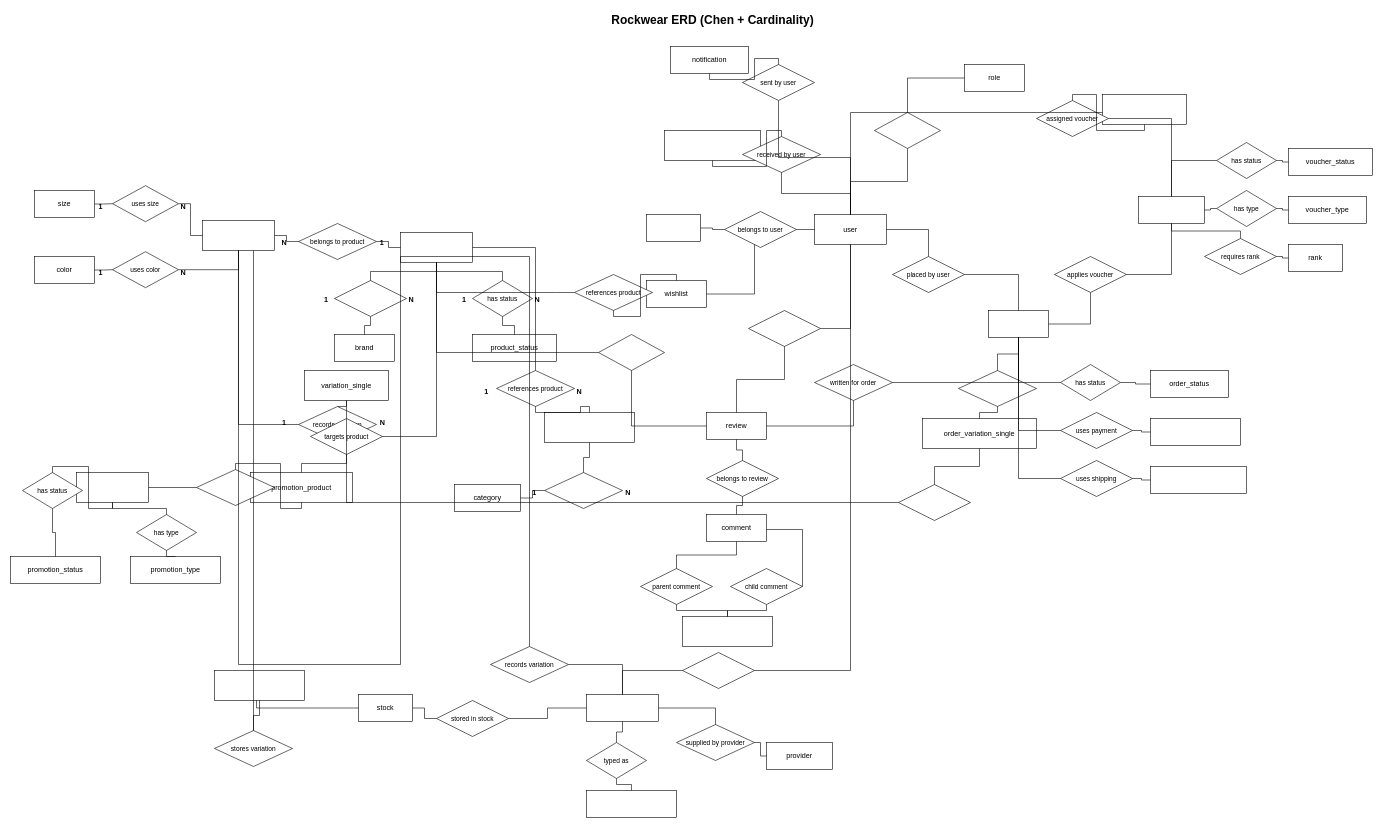
This 1383x828 diagram has some shape labels left out. Here are the shapes that lost their labels. From the top down, the centre of each, then its label:
At pixel 1144 109: "user_voucher".
At pixel 712 145: "notification_user".
At pixel 907 130: "assigned role".
At pixel 673 228: "cart".
At pixel 1171 210: "voucher".
At pixel 238 235: "variation".
At pixel 436 247: "product".
At pixel 370 298: "belongs to brand".
At pixel 784 328: "written by user".
At pixel 1018 324: "order".
At pixel 631 352: "rates product".
At pixel 997 388: "belongs to order".
At pixel 589 427: "product_category".
At pixel 1195 432: "payment_method".
At pixel 112 487: "promotion".
At pixel 235 487: "belongs to promotion".
At pixel 583 490: "references category".
At pixel 1198 480: "shipping_method".
At pixel 934 502: "references SKU".
At pixel 727 631: "comment_parent".
At pixel 259 685: "stock_variation".
At pixel 718 670: "handled by user".
At pixel 622 708: "transaction".
At pixel 631 804: "transaction_type".
